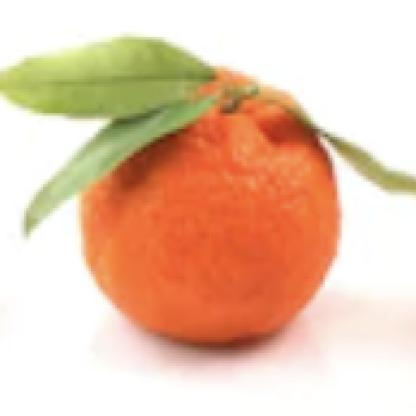fresh: (76, 64, 338, 352)
